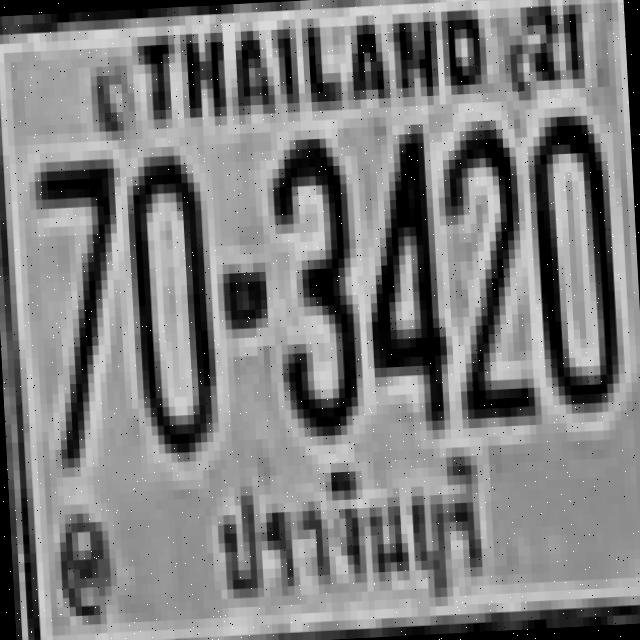0: (119, 145, 214, 455), (526, 105, 620, 406)
2: (441, 120, 529, 420)
3: (265, 128, 359, 430)
4: (356, 119, 444, 419)
7: (30, 150, 126, 460), (30, 150, 120, 367)
PrachinBuri: (202, 451, 496, 614)
